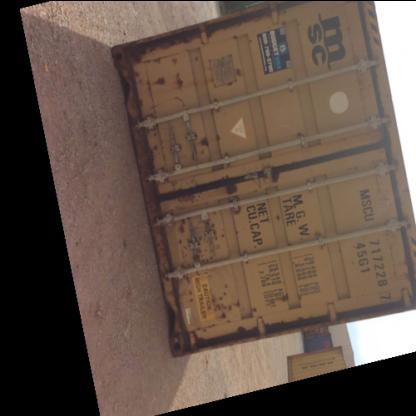Damage: (174, 215, 225, 263), (202, 284, 248, 324), (144, 24, 210, 50), (142, 106, 168, 162), (149, 64, 189, 90), (194, 130, 226, 152), (222, 65, 250, 89), (180, 270, 196, 308), (170, 188, 206, 204), (277, 10, 300, 34), (230, 29, 258, 48), (224, 176, 244, 196), (275, 289, 294, 308), (266, 168, 286, 186), (210, 95, 226, 115), (275, 210, 294, 222), (193, 51, 207, 63)
